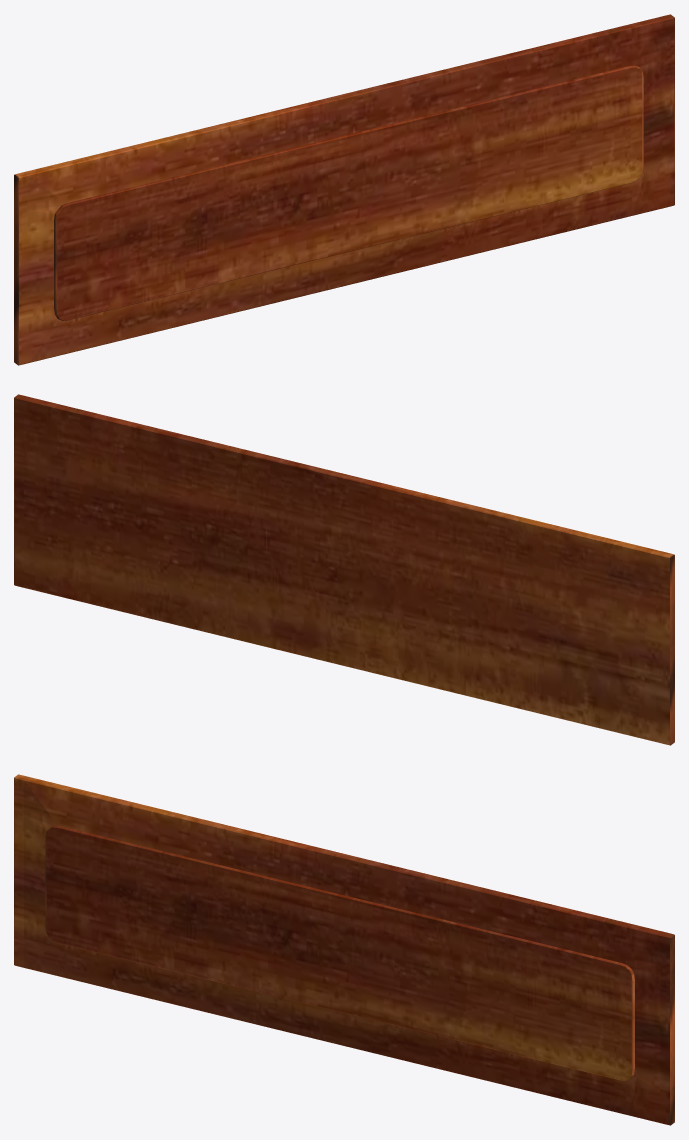
Rendered from SJ_J_houban_02.FBX.
3 renders of one model, top to bottom at view 1: azimuth 30°, elevation 25°; view 2: azimuth 150°, elevation 25°; view 3: azimuth 330°, elevation 25°, orthographic.
Parts seen in each view (by area): view 1: SJ_J_houban_02; view 2: SJ_J_houban_02; view 3: SJ_J_houban_02.
Part boxes in pixels (x1,y1,x2,y2): SJ_J_houban_02: [14, 14, 674, 365]; SJ_J_houban_02: [14, 394, 674, 745]; SJ_J_houban_02: [14, 774, 674, 1125].
Bounding box in the file's own units: 49.6 × 13.6 × 1.
